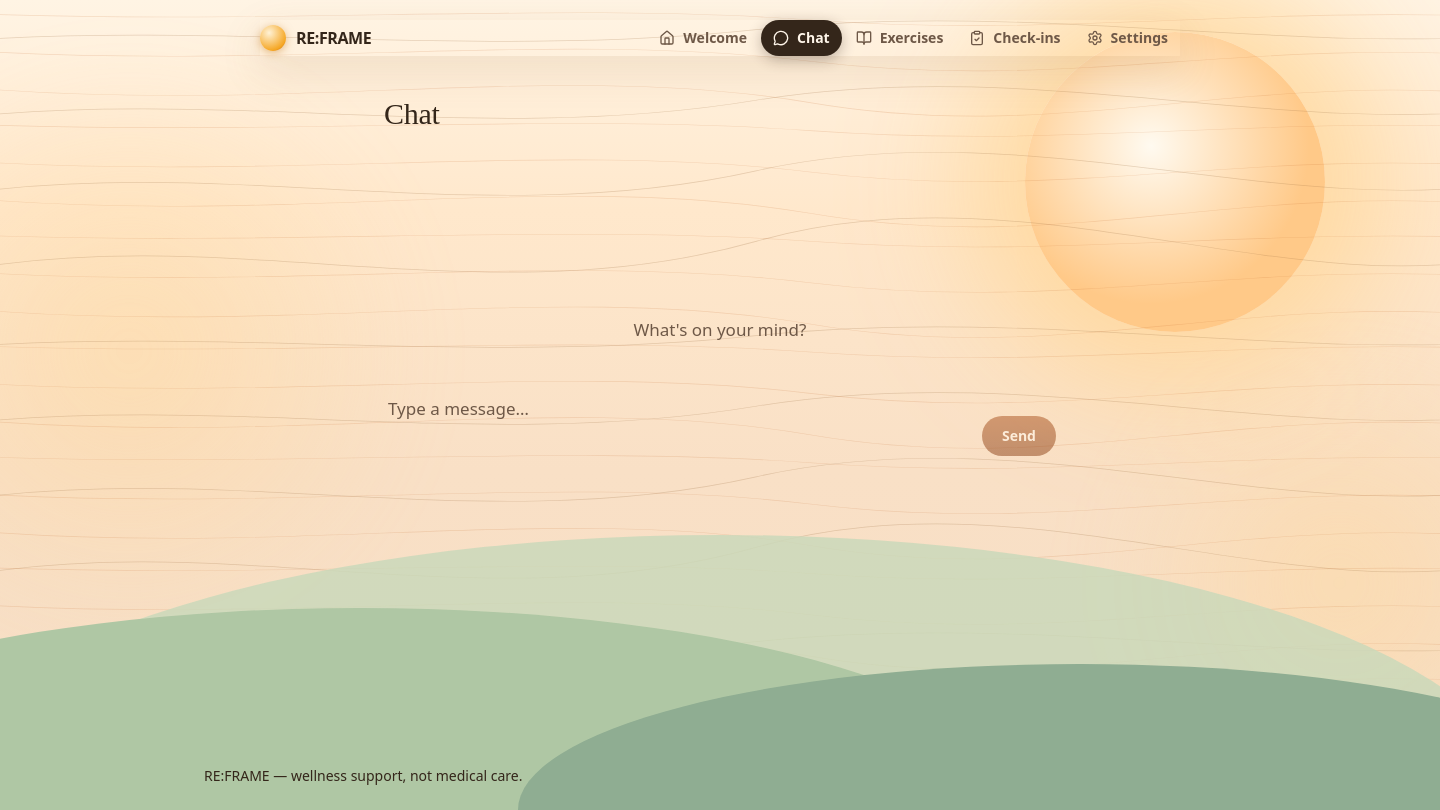
Test: AppShell › renders the Exercises page with its heading
The image size is (1440, 810).
Click the link "Exercises": (900, 38) [856,28,943,47]
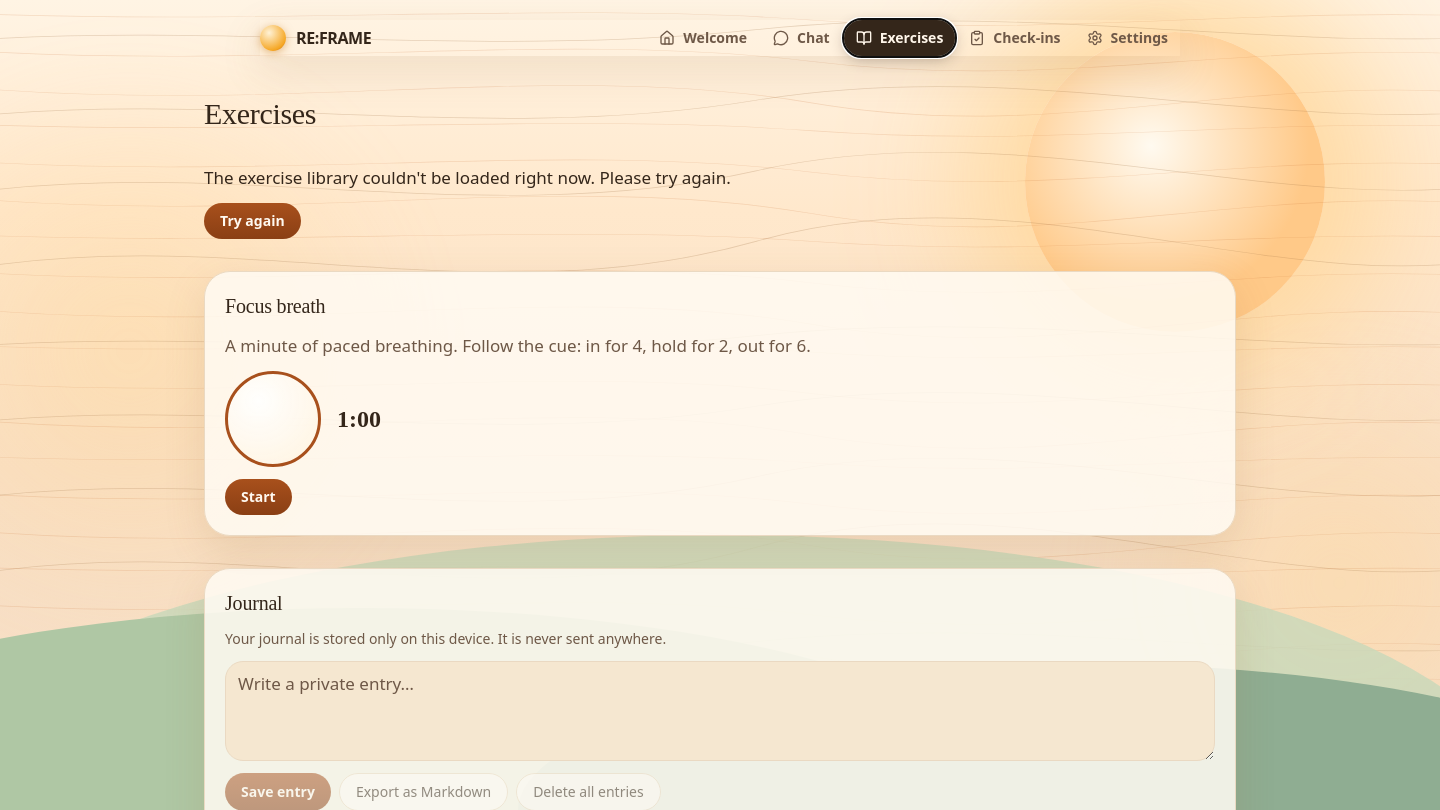
expect the heading "Exercises" is shown: met, box [204,97,316,130]
